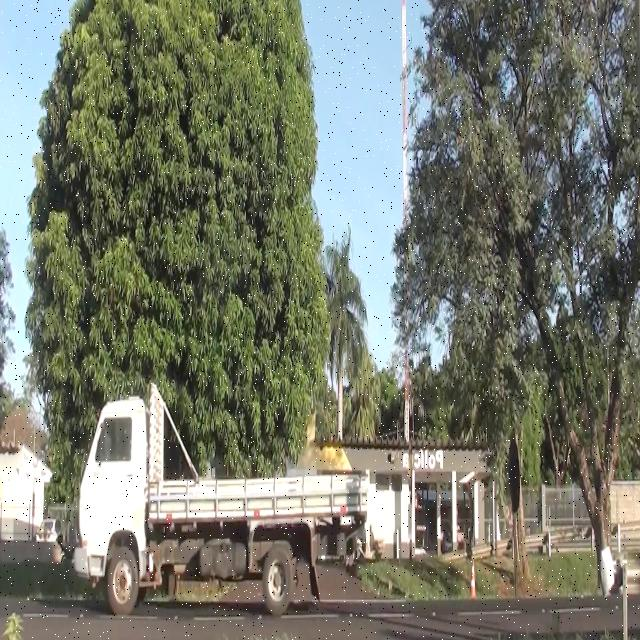-axle: (104, 548, 143, 615), (262, 548, 289, 610)
